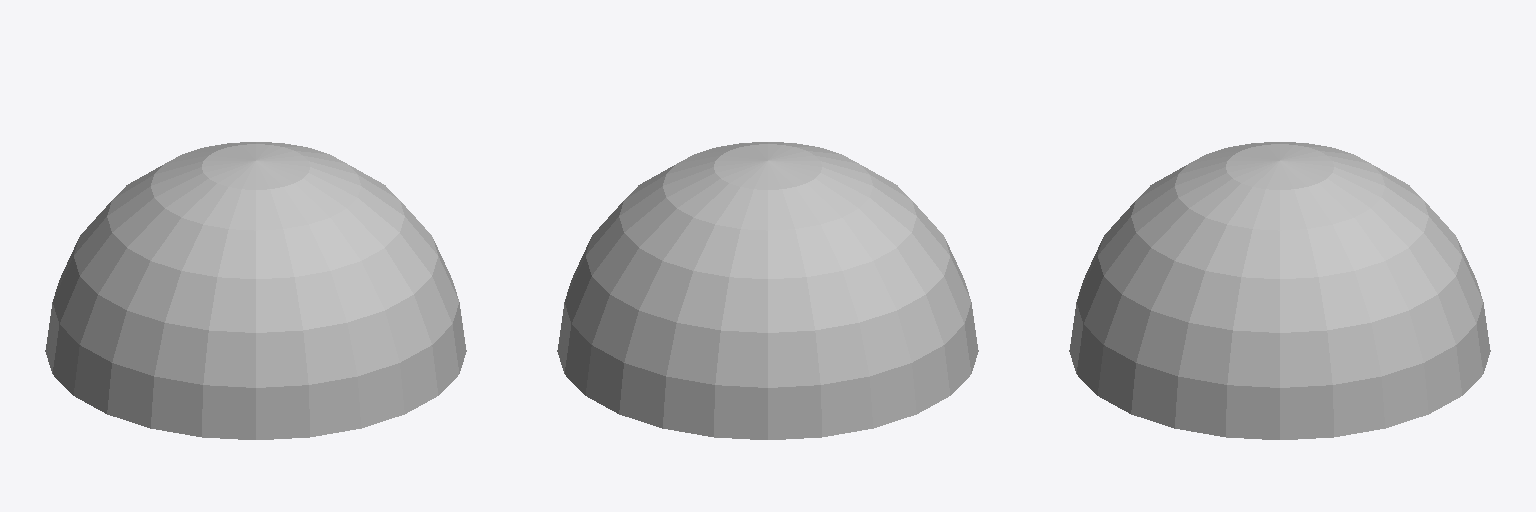
Rendered from sky.obj.
The picture shows the model from 3 angles: view 1: azimuth 30°, elevation 25°; view 2: azimuth 150°, elevation 25°; view 3: azimuth 270°, elevation 25°; orthographic projection.
Parts seen in each view (by area): view 1: default; view 2: default; view 3: default.
Part boxes in pixels (x1,y1,x2,y2): default: (45,142,466,439); default: (557,142,978,439); default: (1069,142,1490,439).
Size of the model in its own units: 244 by 122 by 244.